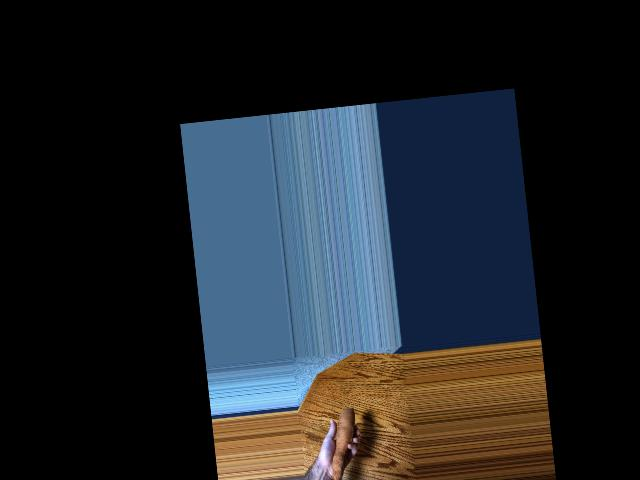sweet_potato: (325, 406, 365, 480)
